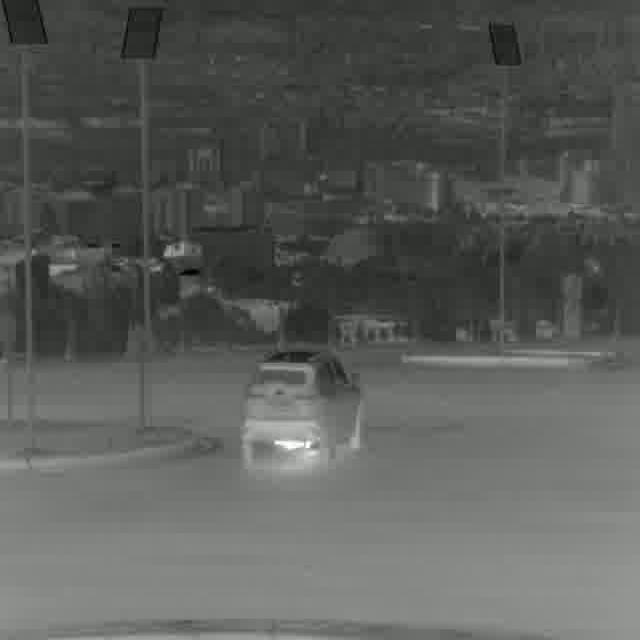Car: (240, 342, 363, 470)
